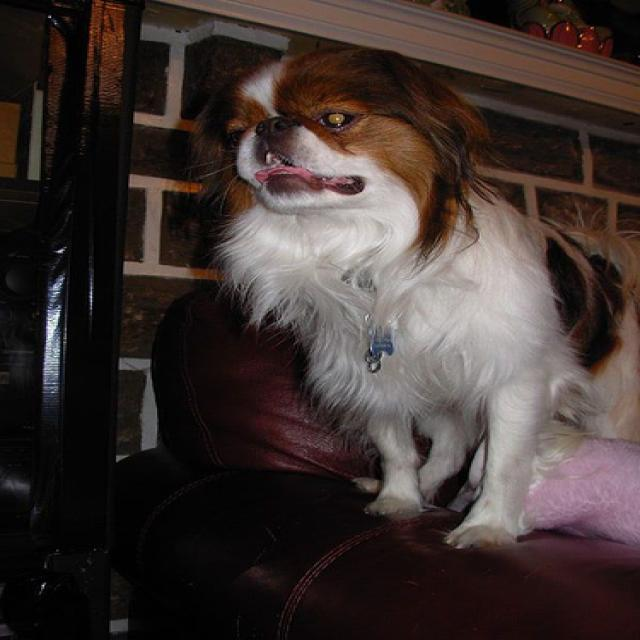dog-japanese_chin: (177, 29, 637, 562)
